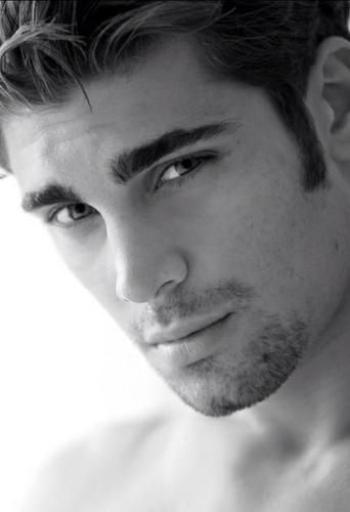left_eye: (153, 144, 217, 195)
left_lip_corner: (211, 307, 239, 330)
right_eye: (48, 201, 101, 231)
right_lip_corner: (135, 334, 165, 359)
